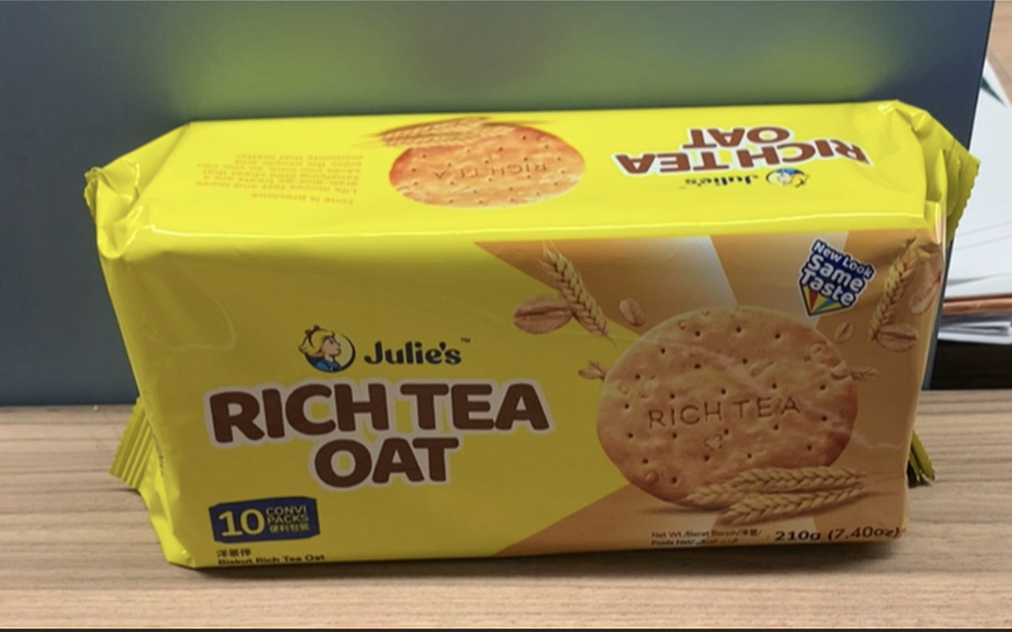cookies_200g-299g: (189, 269, 896, 512)
